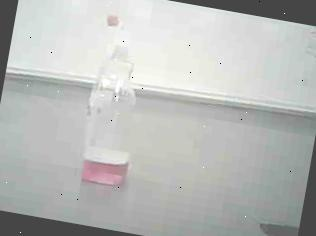hazard: (72, 11, 160, 196)
